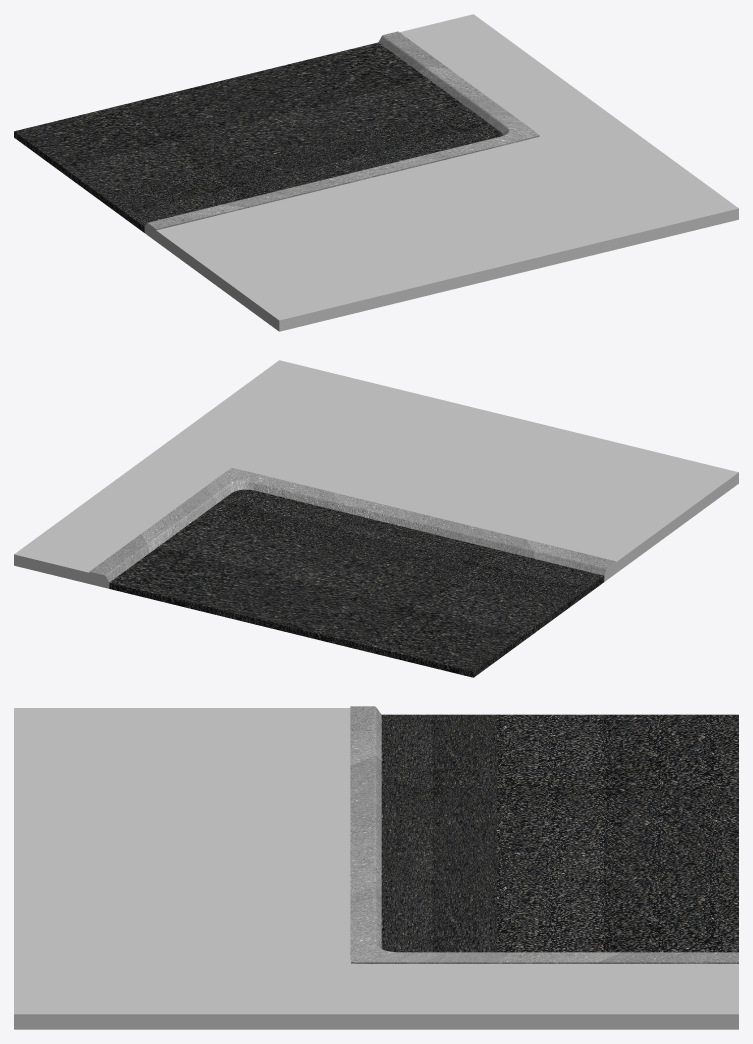
File: tile10.fbx
The picture shows the model from 3 angles, top to bottom: view 1: azimuth 30°, elevation 25°; view 2: azimuth 150°, elevation 25°; view 3: azimuth 270°, elevation 25°; orthographic projection. The views are drawn at different scales.
Visible parts, largest first — view 1: Cube; view 2: Cube; view 3: Cube.
Part boxes in pixels (box(x1,y1,x2,y2)): Cube: box(14, 14, 738, 331); Cube: box(14, 360, 738, 677); Cube: box(14, 706, 738, 1029).
Bounding box in the file's own units: 600 × 15.53 × 600.
